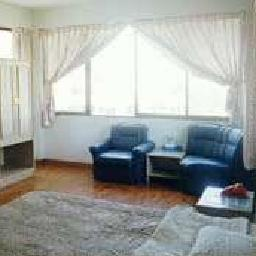Ventana: (135, 26, 237, 118), (48, 28, 135, 117)
